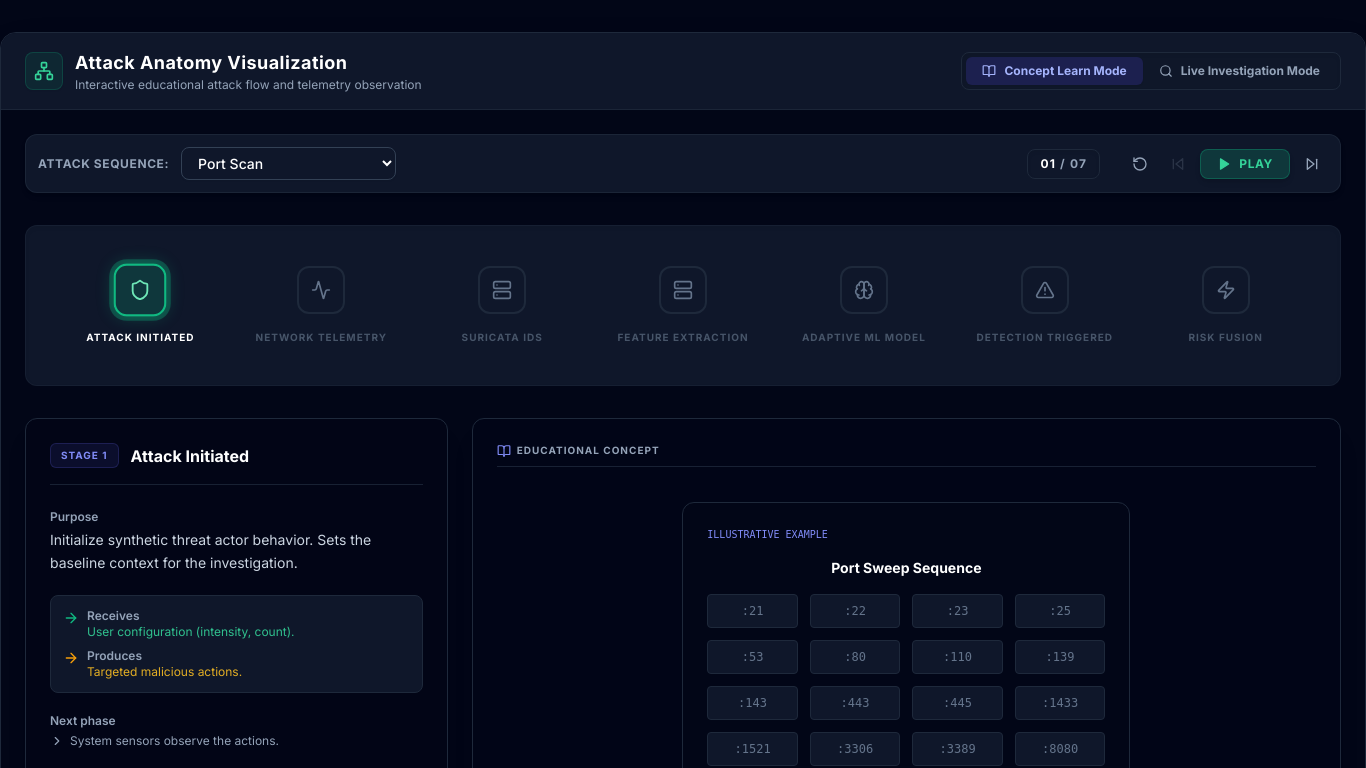
Test case: AttackAnatomy › shows unavailable state in Investigation Mode with no simulation result (Requirement 1)
This screenshot has width=1366, height=768.
// Switch to investigate mode
Click the button "Live Investigation Mode". click: coordinates (1239, 71)
box: 1143,57 -> 1336,85
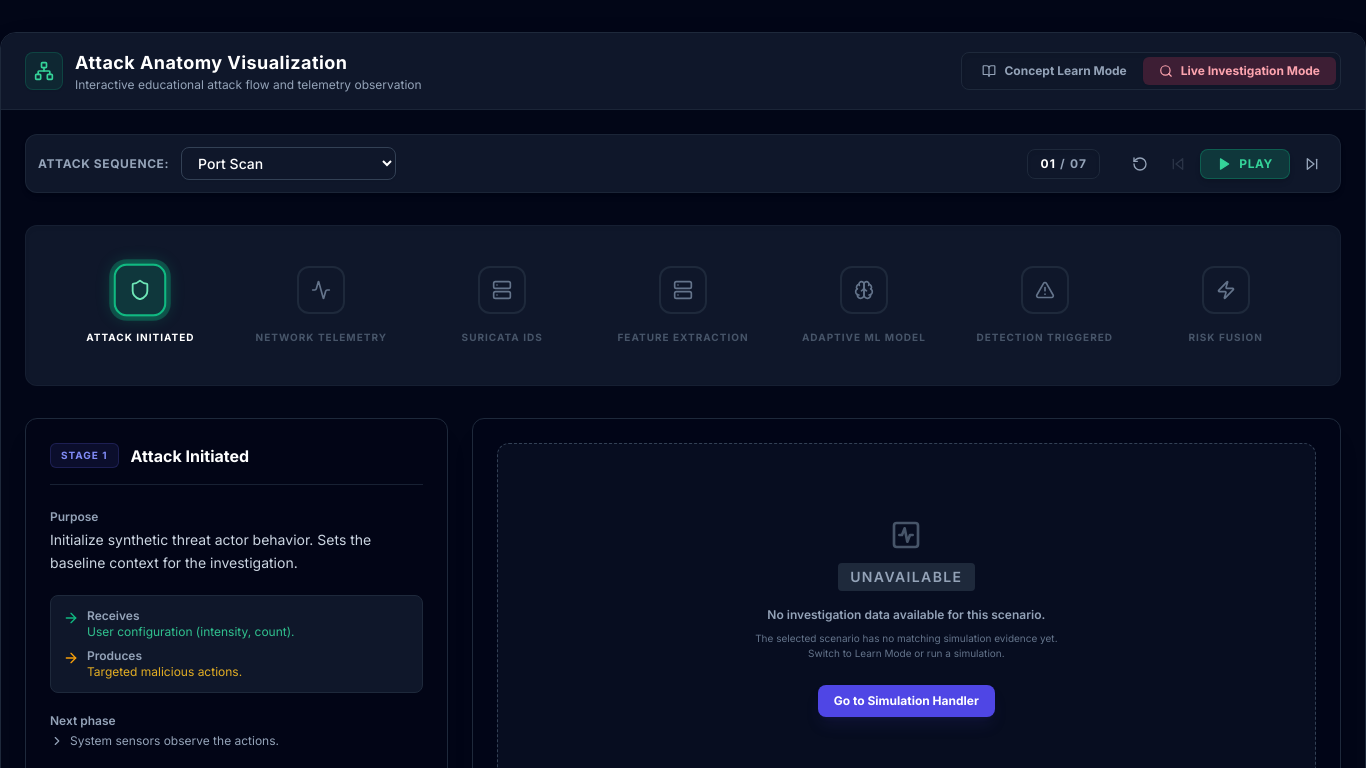
Expected: the text "No investigation data available for this scenario." is shown, 767,607 -> 1045,623
Expected: the text "The selected scenario has no matching simulation evidence yet" is shown, 755,632 -> 1058,659
Expected: the button "Go to Simulation Handler" is shown, 818,685 -> 995,717
